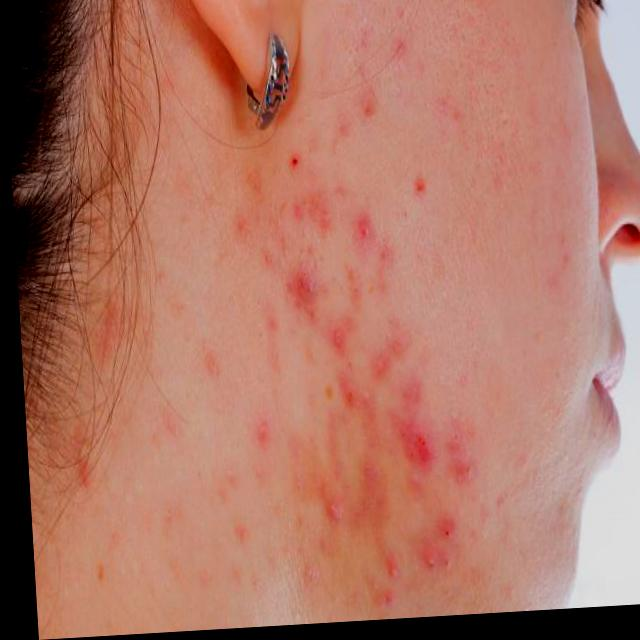8: (439, 429, 469, 501), (335, 212, 380, 250), (364, 340, 382, 381)
9: (307, 485, 340, 531), (405, 546, 431, 587), (372, 559, 392, 595)
papules: (372, 411, 424, 479), (280, 271, 314, 326)
